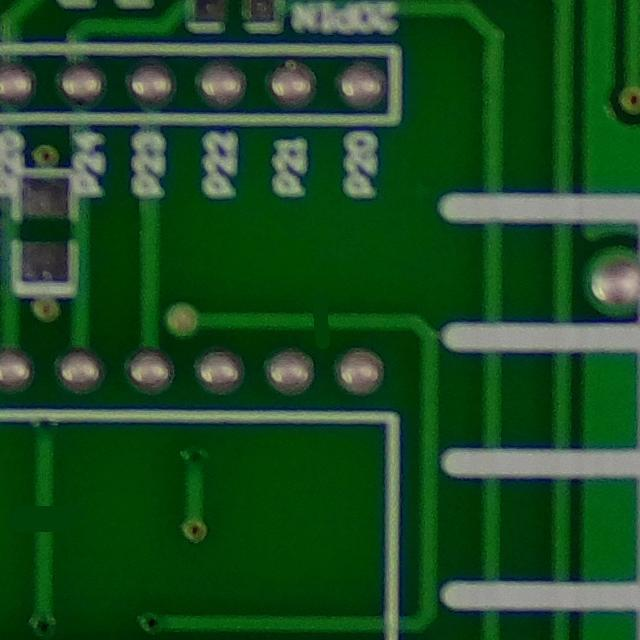open_circuit: (297, 300, 344, 341)
